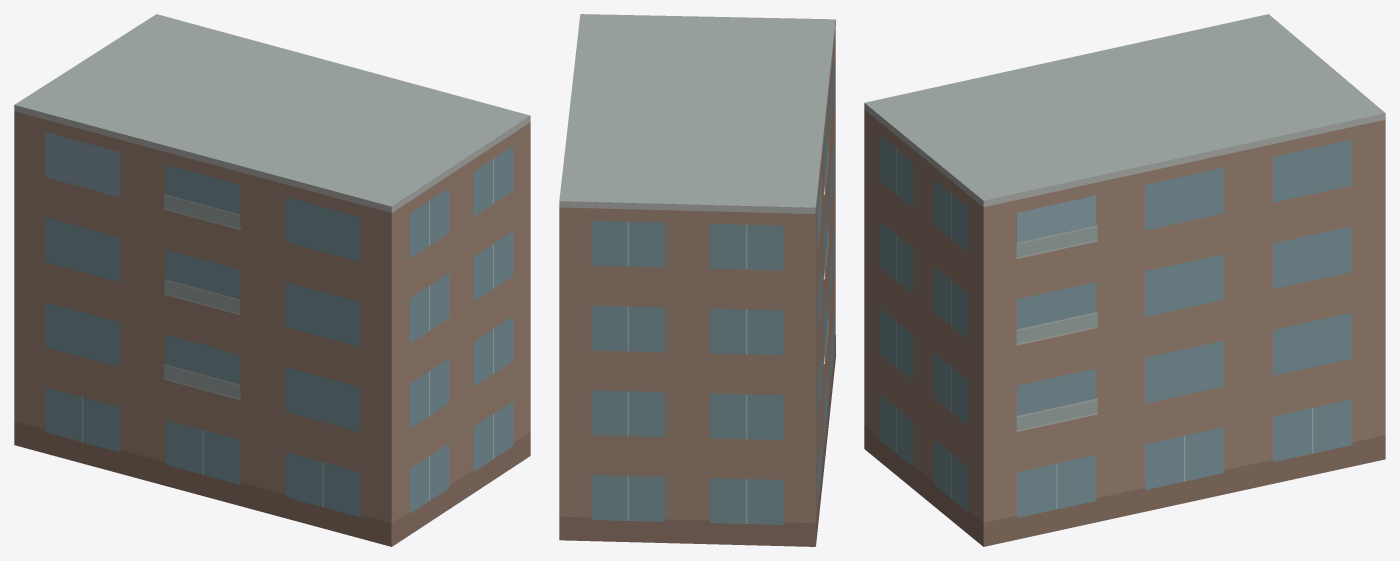
Rendered from survey-upis-32836160.glb.
3 views of the same model, side by side, from view 1: azimuth 30°, elevation 25°; view 2: azimuth 150°, elevation 25°; view 3: azimuth 270°, elevation 25° (orthographic). The views are drawn at different scales.
Parts seen in each view (by area): view 1: survey-upis-32836160.tmp; view 2: survey-upis-32836160.tmp; view 3: survey-upis-32836160.tmp.
Part boxes in pixels (x1,y1,x2,y2): survey-upis-32836160.tmp: (14, 14, 530, 546); survey-upis-32836160.tmp: (559, 14, 835, 546); survey-upis-32836160.tmp: (864, 14, 1385, 546).
Bounding box in the file's own units: 15.17 × 13.1 × 17.89.
